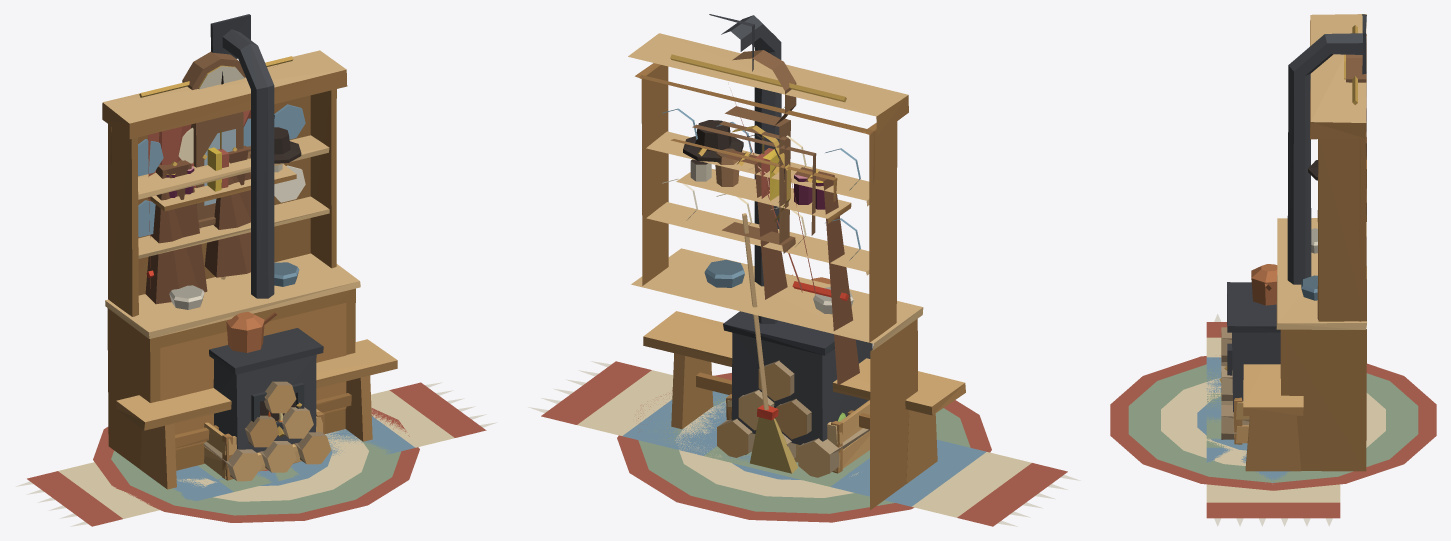
File: aubrune-objets.glb
3 renders of one model, left to right at view 1: azimuth 30°, elevation 25°; view 2: azimuth 150°, elevation 25°; view 3: azimuth 270°, elevation 25°, orthographic. The views are drawn at different scales.
Parts seen in each view (by area): view 1: dresser, wood-stove, rug-round, rug-runner, table-bench, coat-rack, indoor-logs, wall-clock, wall-shelf, door-curtain, vegetable-crate; view 2: dresser, rug-runner, rug-round, wood-stove, table-bench, coat-rack, indoor-logs, wall-shelf, wall-clock, broom, vegetable-crate, door-curtain (+1 smaller); view 3: dresser, rug-round, wood-stove, rug-runner, table-bench, indoor-logs, wall-clock, vegetable-crate.
Boxes of the visible parts, <box> form: dresser: <box>102,50,360,470</box>; wood-stove: <box>209,14,323,452</box>; rug-round: <box>93,407,419,522</box>; rug-runner: <box>15,382,497,526</box>; table-bench: <box>116,339,397,489</box>; coat-rack: <box>145,127,301,304</box>; indoor-logs: <box>203,381,331,481</box>; wall-clock: <box>182,51,245,227</box>; wall-shelf: <box>148,146,296,211</box>; door-curtain: <box>139,56,293,288</box>; vegetable-crate: <box>204,409,324,480</box>; dresser: <box>628,33,923,510</box>; rug-runner: <box>528,361,1080,526</box>; rug-round: <box>617,373,991,522</box>; wood-stove: <box>709,14,872,454</box>; table-bench: <box>643,311,965,483</box>; coat-rack: <box>671,120,859,385</box>; indoor-logs: <box>717,360,869,477</box>; wall-shelf: <box>676,148,851,223</box>; wall-clock: <box>722,50,796,253</box>; broom: <box>742,213,798,473</box>; vegetable-crate: <box>726,394,869,473</box>; door-curtain: <box>670,54,848,301</box>; dresser: <box>1276,14,1366,471</box>; rug-round: <box>1110,356,1436,490</box>; wood-stove: <box>1224,14,1366,412</box>; rug-runner: <box>1206,314,1340,526</box>; table-bench: <box>1243,364,1303,471</box>; indoor-logs: <box>1221,327,1249,439</box>; wall-clock: <box>1344,54,1366,214</box>; vegetable-crate: <box>1233,397,1249,444</box>.
Bounding box in the file's own units: 2.72 × 2.42 × 1.75.
